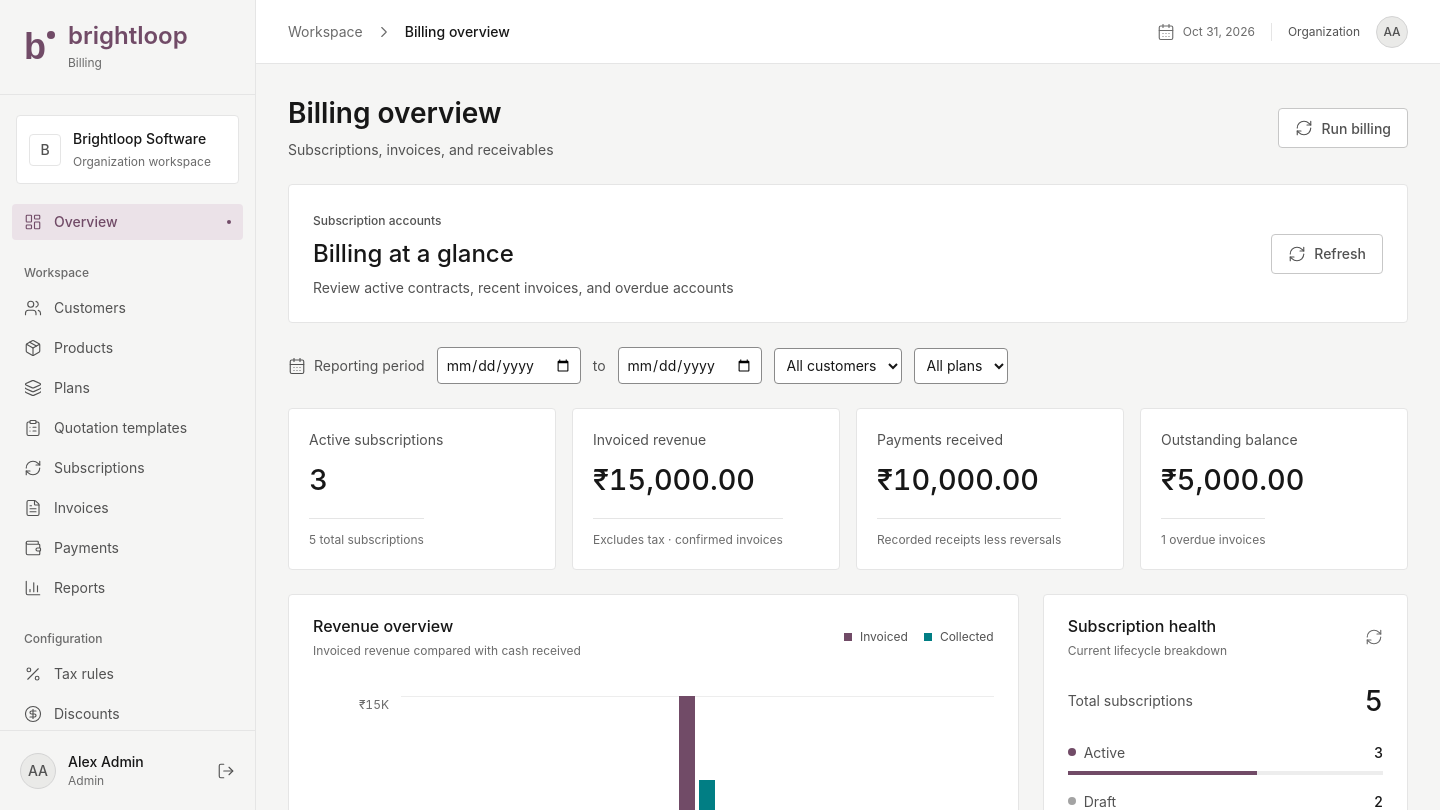
Scenario: workspace permissions and real mutations › keeps form input and reports a rejected API mutation
Click the button "Products".
click(128, 348)  # box [12, 330, 243, 366]
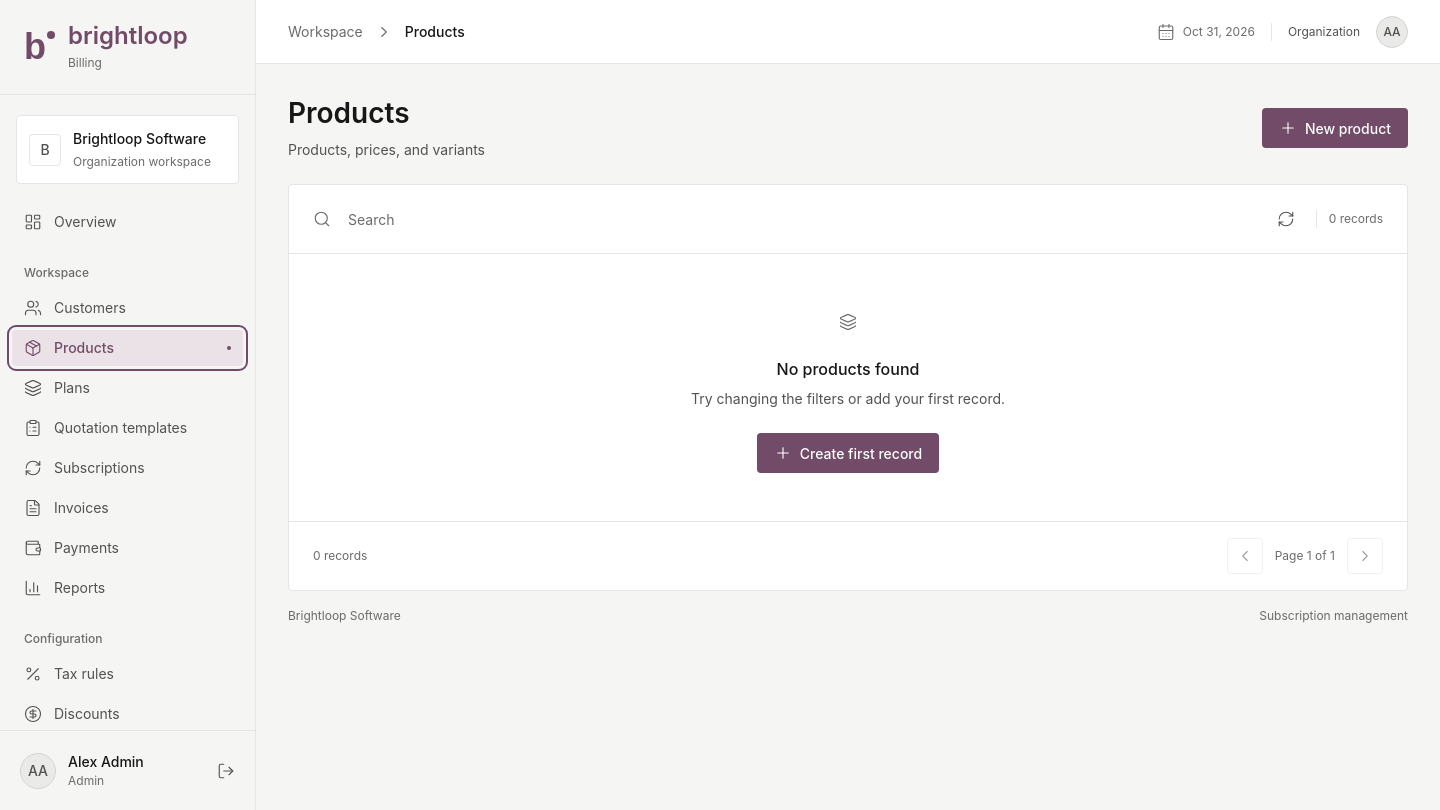
Click the button "New product".
click(1335, 128)  # box [1262, 108, 1408, 148]
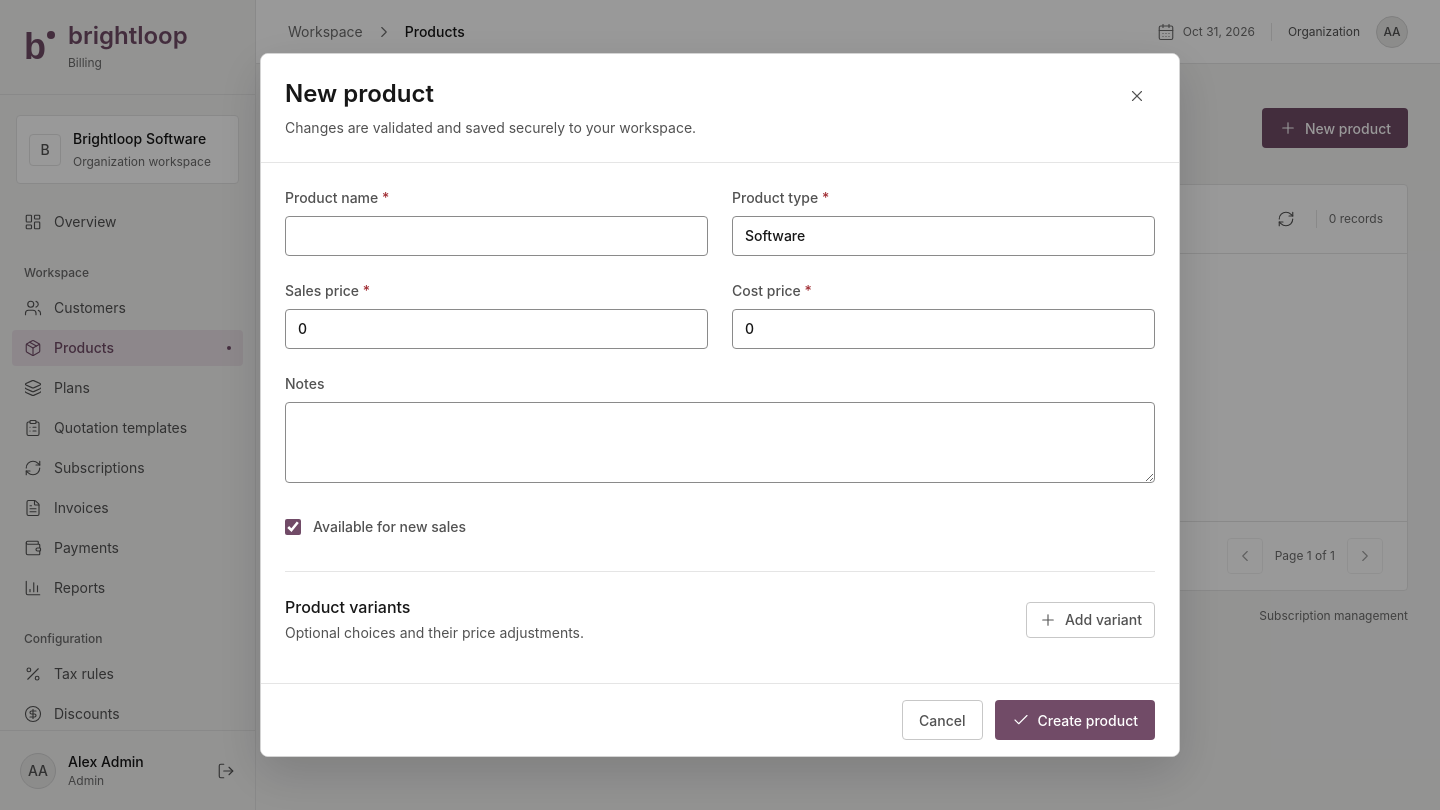
Type "Duplicate product" into the field labelled "Product name *".
click(496, 236); type("Duplicate product")  # box [285, 216, 708, 256]
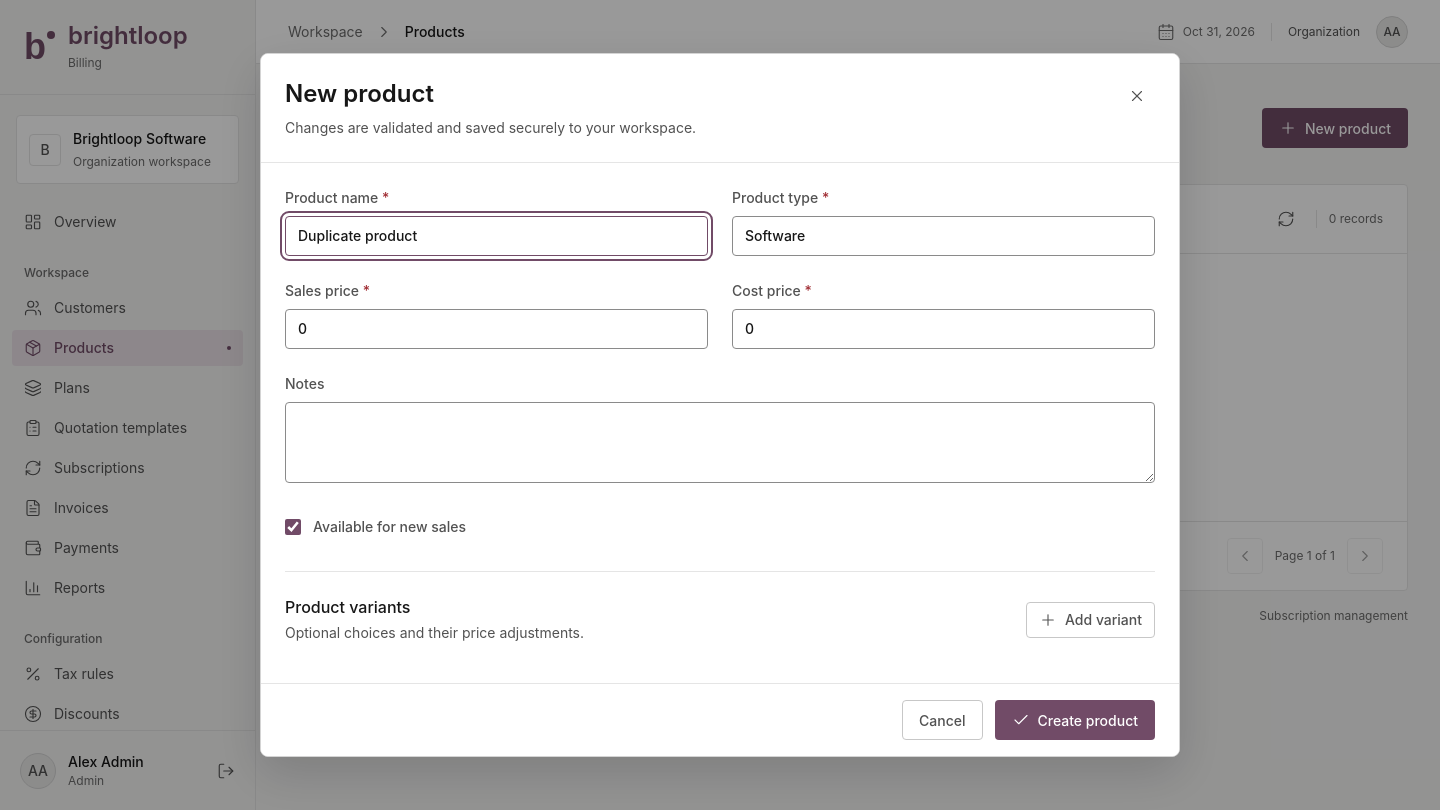
Click the button "Create product".
click(1075, 720)  # box [994, 700, 1155, 740]
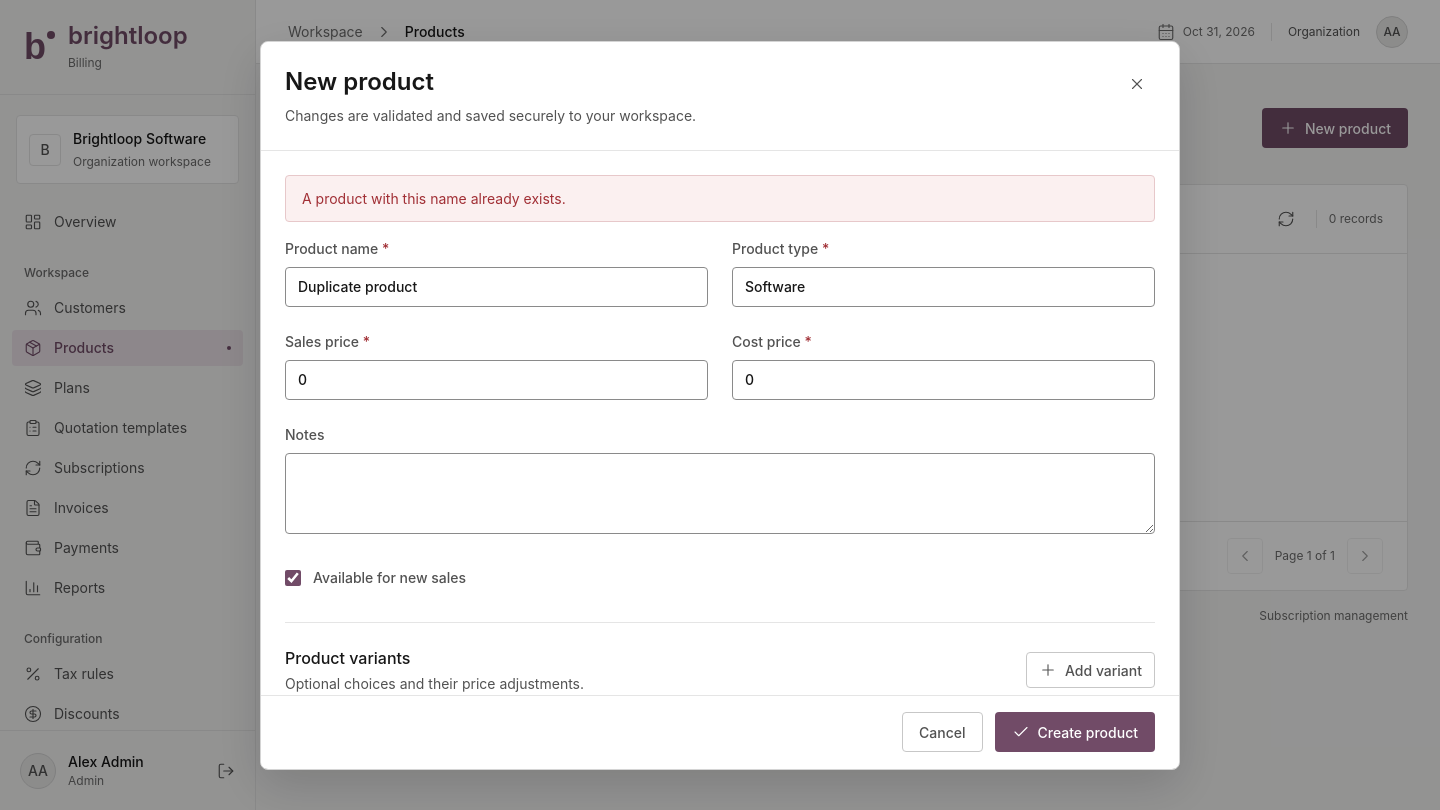
Now the dialog is shown, box [260, 40, 1180, 770]
Now the message reads "A product with this name already exists.", box [302, 190, 566, 207]
